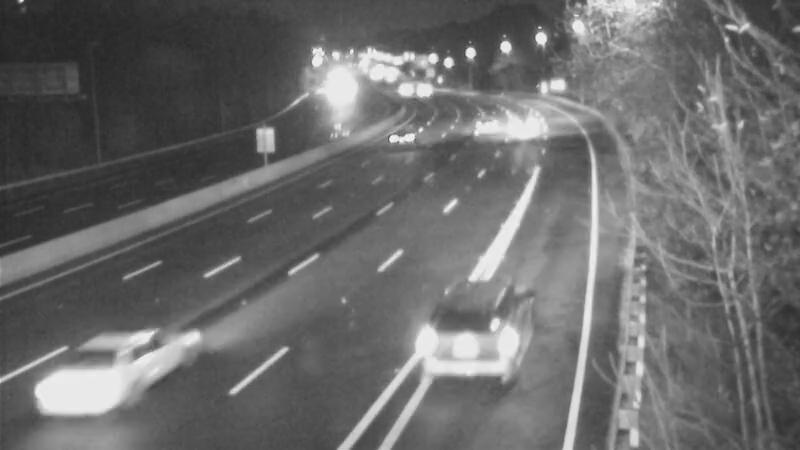vehicle: (412, 287, 522, 397), (25, 336, 135, 446), (456, 98, 506, 148), (492, 107, 542, 157), (373, 114, 423, 164)
